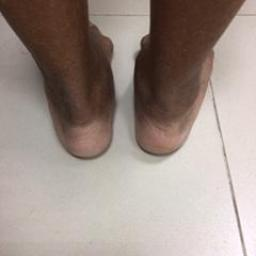Back View -Both Feet-: (4, 6, 240, 184)
